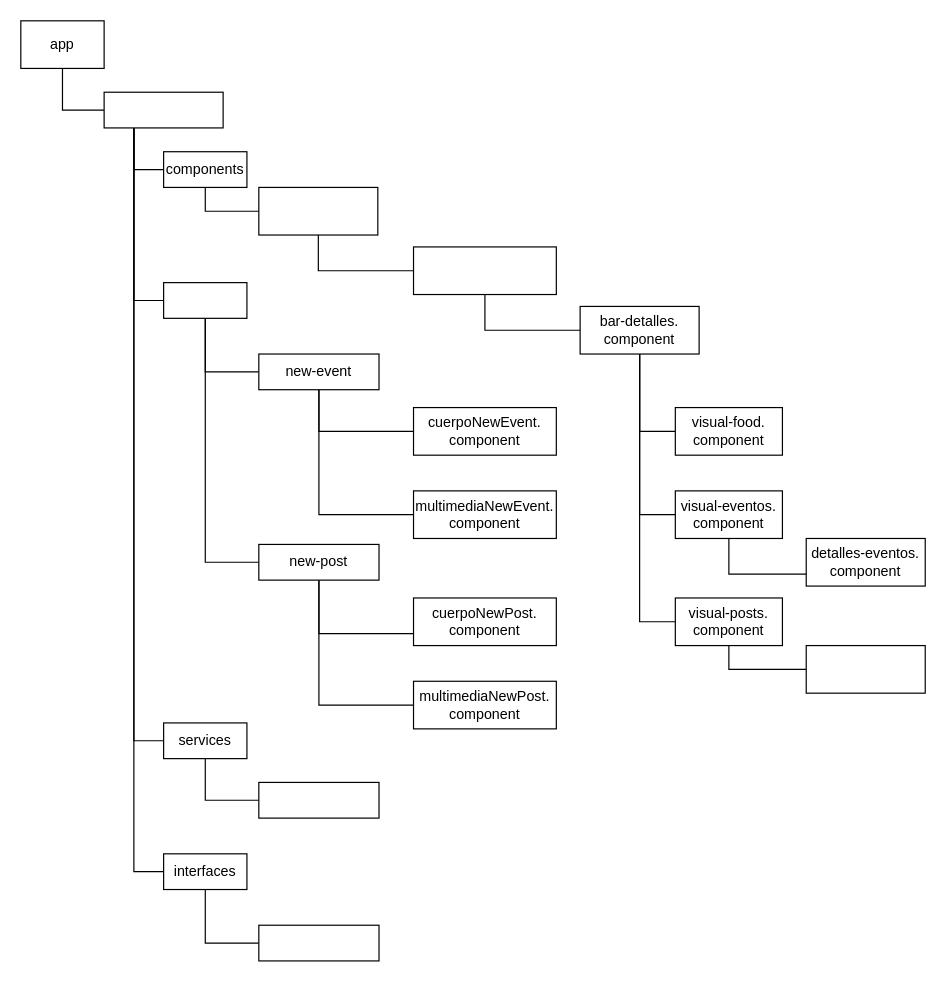
Image size: 946x982. Some labels were removed from this diagram. Here are the shapes that lost their labels. From the top down, the centre of each, then its label:
point (163, 109): app-component
point (318, 210): grid-bar. component
point (484, 270): visual-bar. component
point (204, 299): pages
point (865, 668): detalles-posts. component
point (318, 799): main-bar.service
point (318, 942): informacion-bar
